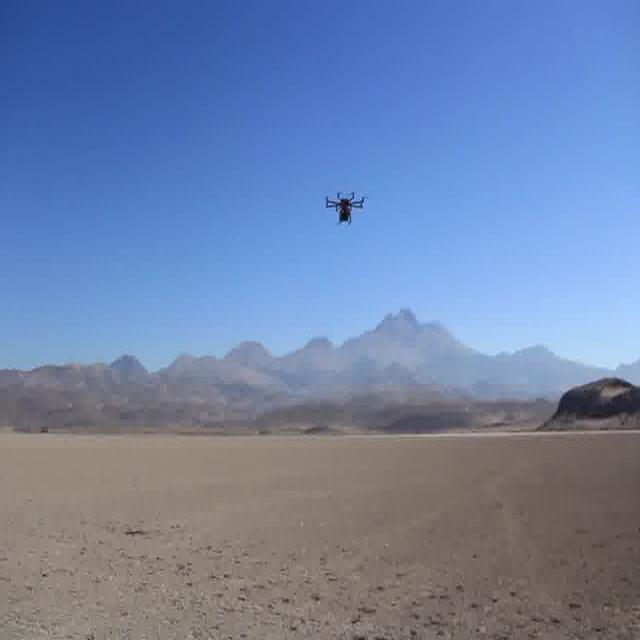drone: (324, 184, 370, 233)
